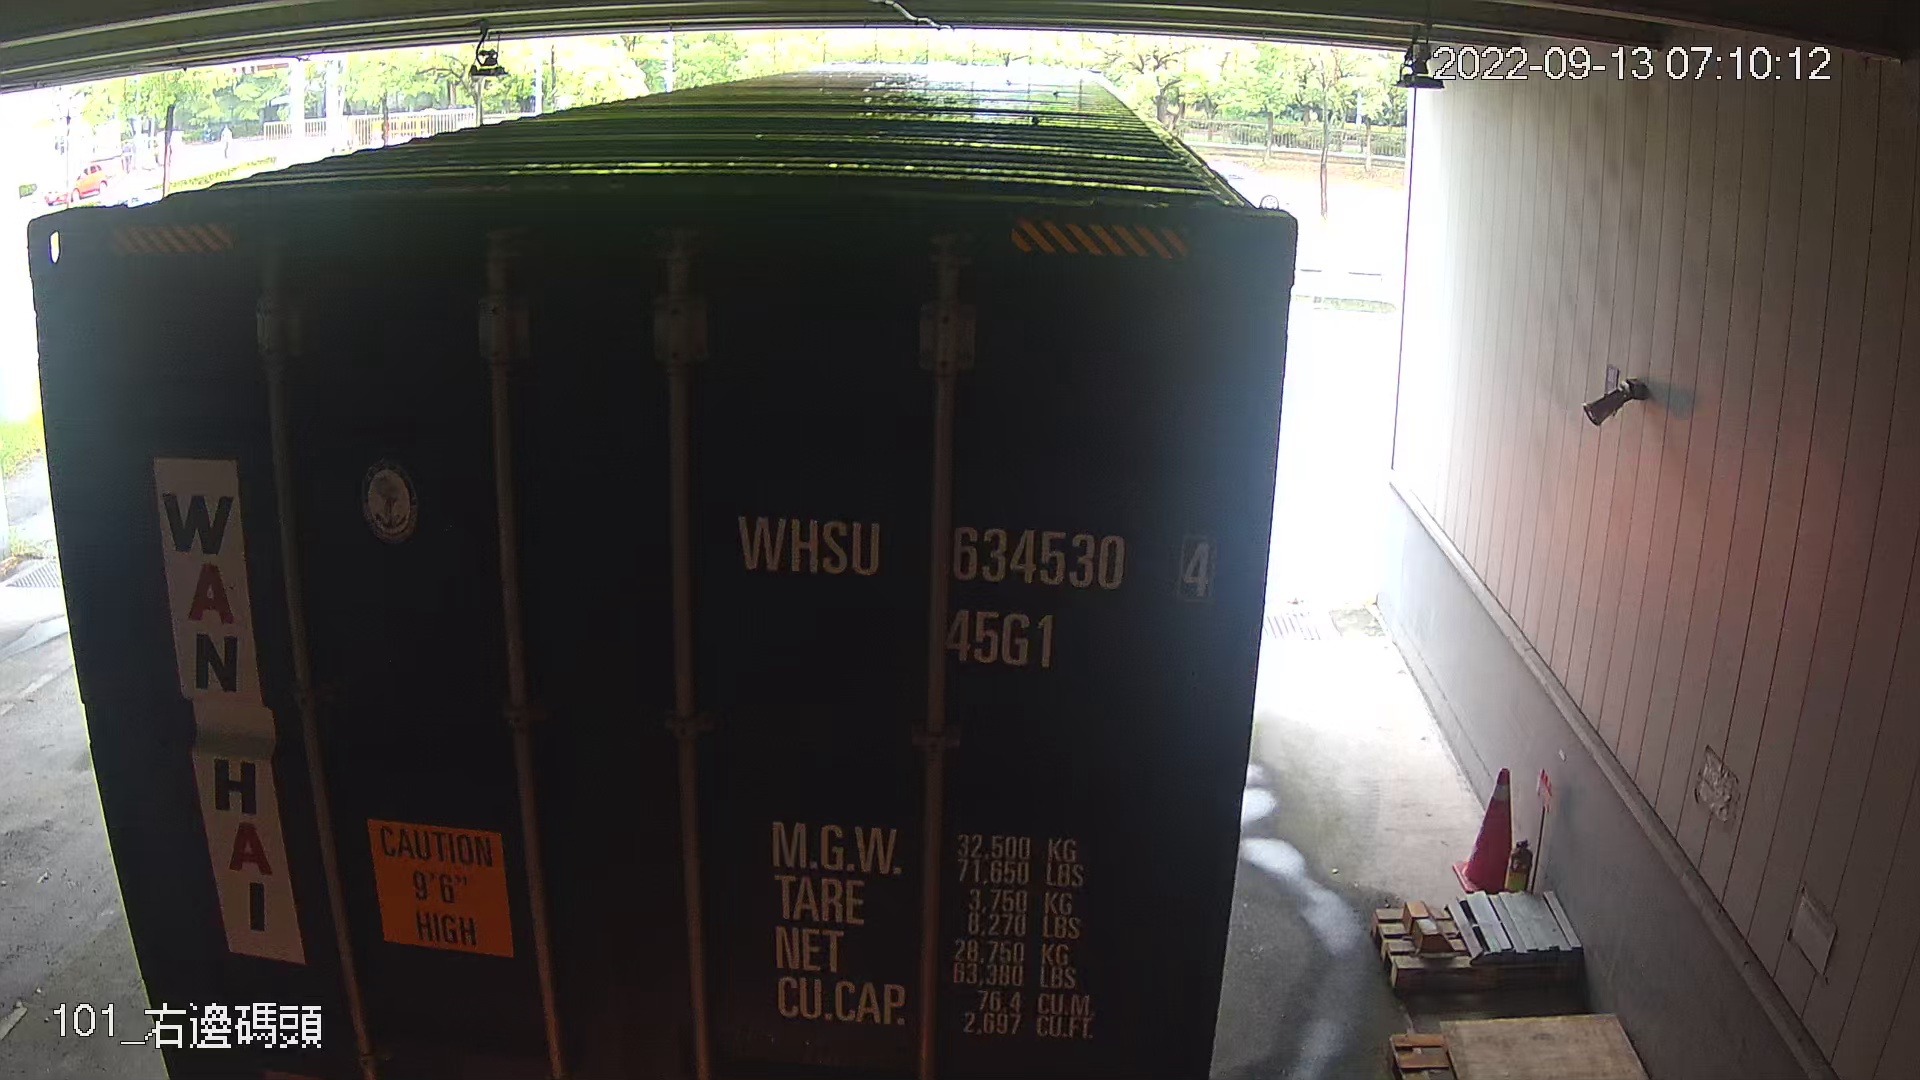container: (719, 495, 1228, 674)
